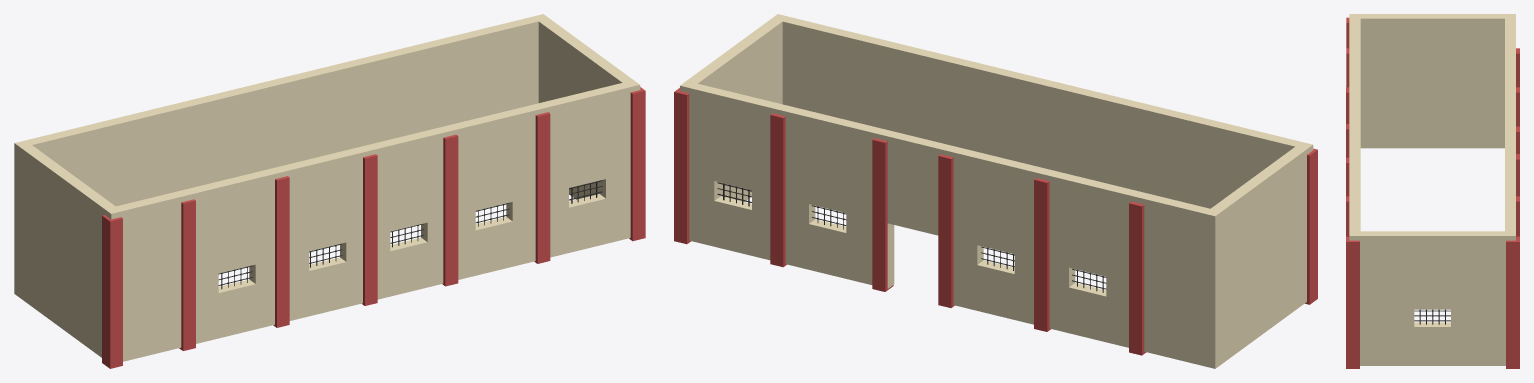
File: stable.fbx
3 renders of one model, left to right at view 1: azimuth 30°, elevation 25°; view 2: azimuth 150°, elevation 25°; view 3: azimuth 270°, elevation 25°, orthographic. The views are drawn at different scales.
Parts seen in each view (by area): view 1: muri, colonne; view 2: muri, colonne; view 3: muri, colonne, grata_8.
Part boxes in pixels (left/top/right/bottom): muri: left=14, top=14, right=640, bottom=361; colonne: left=102, top=87, right=645, bottom=368; muri: left=680, top=14, right=1313, bottom=368; colonne: left=674, top=88, right=1317, bottom=355; muri: left=1349, top=14, right=1515, bottom=365; colonne: left=1346, top=17, right=1519, bottom=368; grata_8: left=1414, top=309, right=1450, bottom=324.
Size of the model in its own units: 1916 by 524 by 627.
